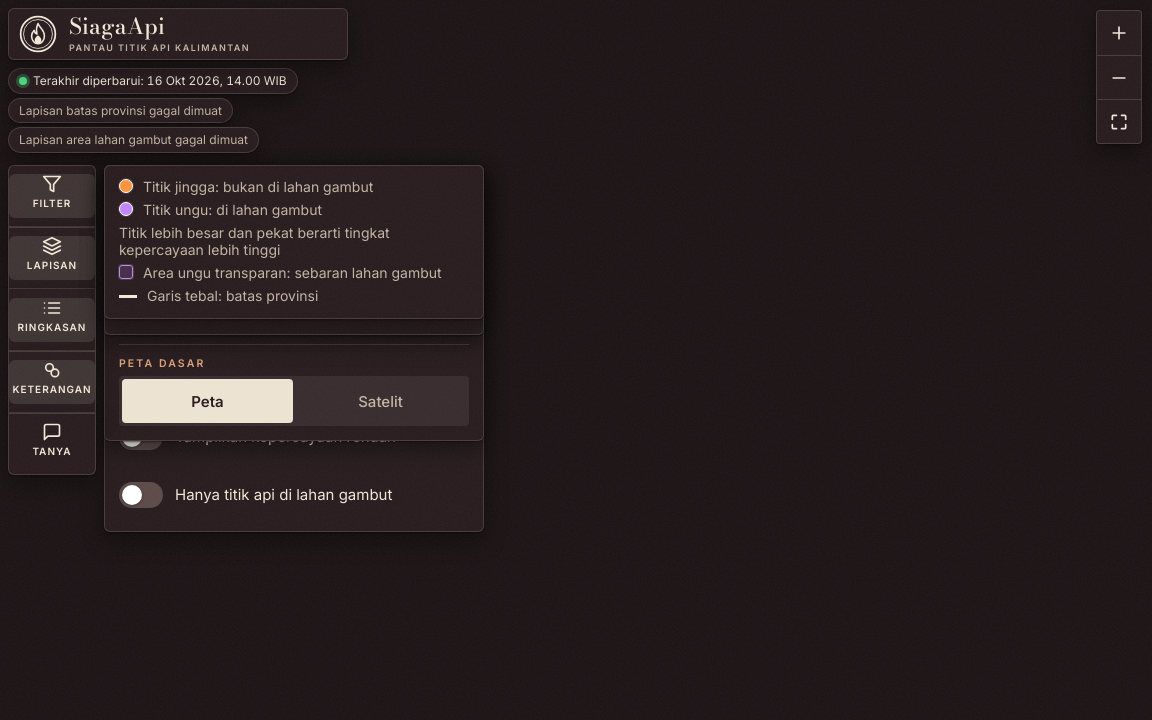
Scenario: on a wide screen the legend starts open and can be folded away
Click the button "Keterangan". click: x=52, y=382
box: x1=9 y1=360 x2=95 y2=404
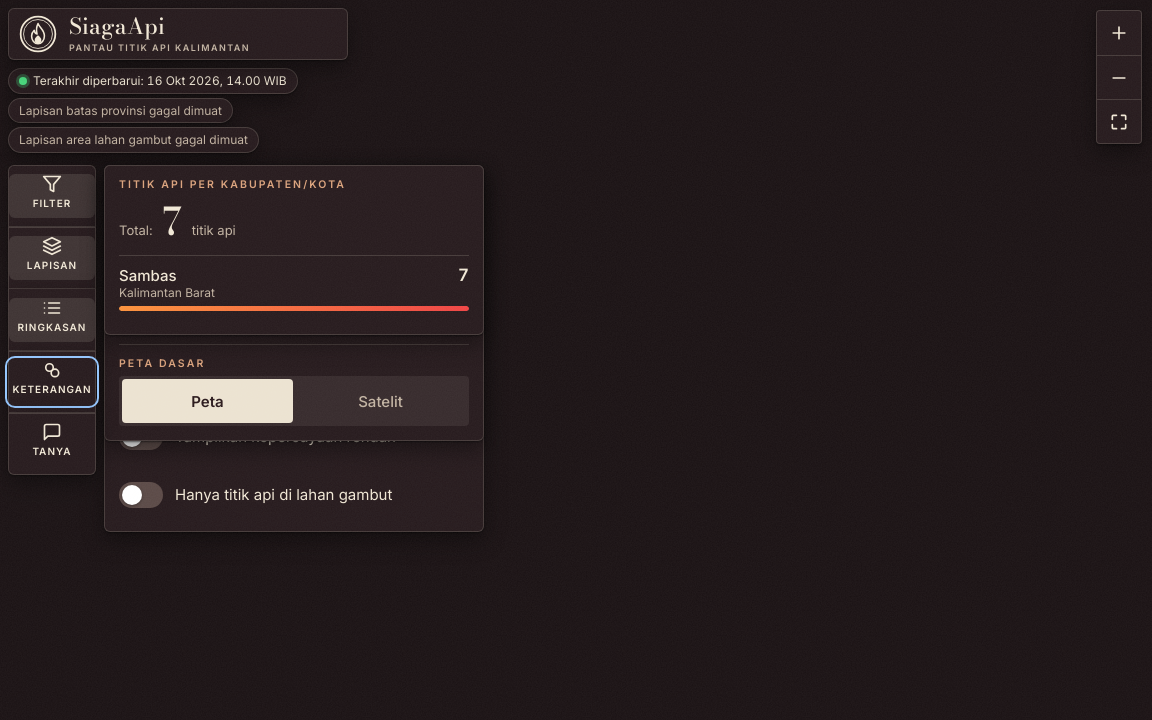
Result: the button "Keterangan" is collapsed at x1=9 y1=360 x2=95 y2=404
Result: the list item "jingga" is gone
